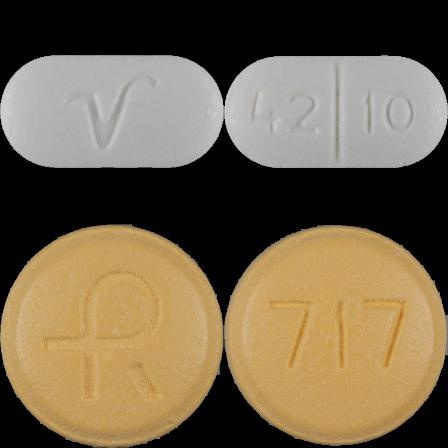60760-266: (0, 0, 224, 224)
